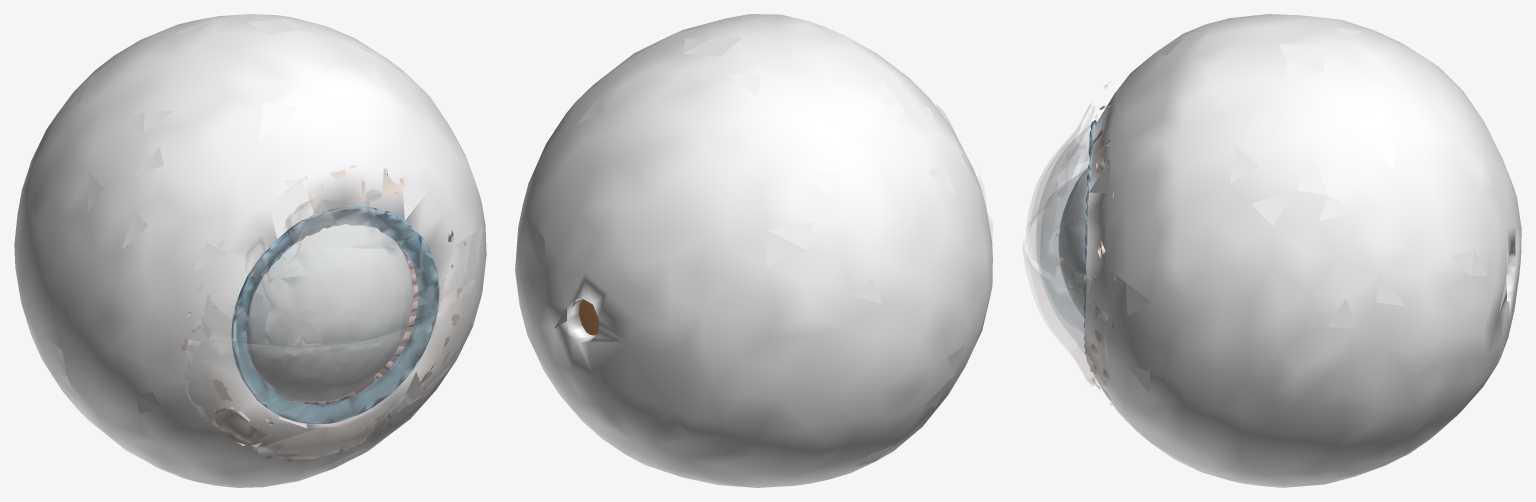
Rendered from 3d-vh-f-eye-r-20.glb.
3 renders of one model, left to right at view 1: azimuth 30°, elevation 25°; view 2: azimuth 150°, elevation 25°; view 3: azimuth 270°, elevation 25°, orthographic.
Parts seen in each view (by area): view 1: VH_F_sclera_R, VH_F_cornea_R, VH_F_palpebral_conjunctiva_of_right_lower_eyelid, VH_F_aqueous_humor_R, VH_F_palpebral_conjunctiva_of_right_upper_eyelid, VH_F_corneo_scleral_junction_R, VH_F_bulbar_conjunctiva_R, VH_F_ciliary_muscle_R; view 2: VH_F_sclera_R, VH_F_optic_choroid_R; view 3: VH_F_sclera_R, VH_F_cornea_R, VH_F_palpebral_conjunctiva_of_right_lower_eyelid, VH_F_palpebral_conjunctiva_of_right_upper_eyelid, VH_F_aqueous_humor_R, VH_F_bulbar_conjunctiva_R, VH_F_corneo_scleral_junction_R.
Boxes of the visible parts, bbox=[...] form: VH_F_sclera_R: bbox=[14, 14, 486, 487]; VH_F_cornea_R: bbox=[234, 209, 439, 423]; VH_F_palpebral_conjunctiva_of_right_lower_eyelid: bbox=[184, 276, 475, 458]; VH_F_aqueous_humor_R: bbox=[246, 224, 413, 402]; VH_F_palpebral_conjunctiva_of_right_upper_eyelid: bbox=[198, 166, 471, 345]; VH_F_corneo_scleral_junction_R: bbox=[231, 206, 439, 423]; VH_F_bulbar_conjunctiva_R: bbox=[181, 168, 469, 461]; VH_F_ciliary_muscle_R: bbox=[292, 242, 418, 404]; VH_F_sclera_R: bbox=[515, 14, 992, 487]; VH_F_optic_choroid_R: bbox=[579, 299, 598, 335]; VH_F_sclera_R: bbox=[1084, 14, 1521, 487]; VH_F_cornea_R: bbox=[1037, 122, 1094, 354]; VH_F_palpebral_conjunctiva_of_right_lower_eyelid: bbox=[1023, 216, 1109, 388]; VH_F_palpebral_conjunctiva_of_right_upper_eyelid: bbox=[1026, 83, 1109, 311]; VH_F_aqueous_humor_R: bbox=[1058, 168, 1088, 317]; VH_F_bulbar_conjunctiva_R: bbox=[1090, 103, 1117, 405]; VH_F_corneo_scleral_junction_R: bbox=[1083, 120, 1096, 353].
Size of the model in its own units: 0.0245 by 0.0244 by 0.0258.
